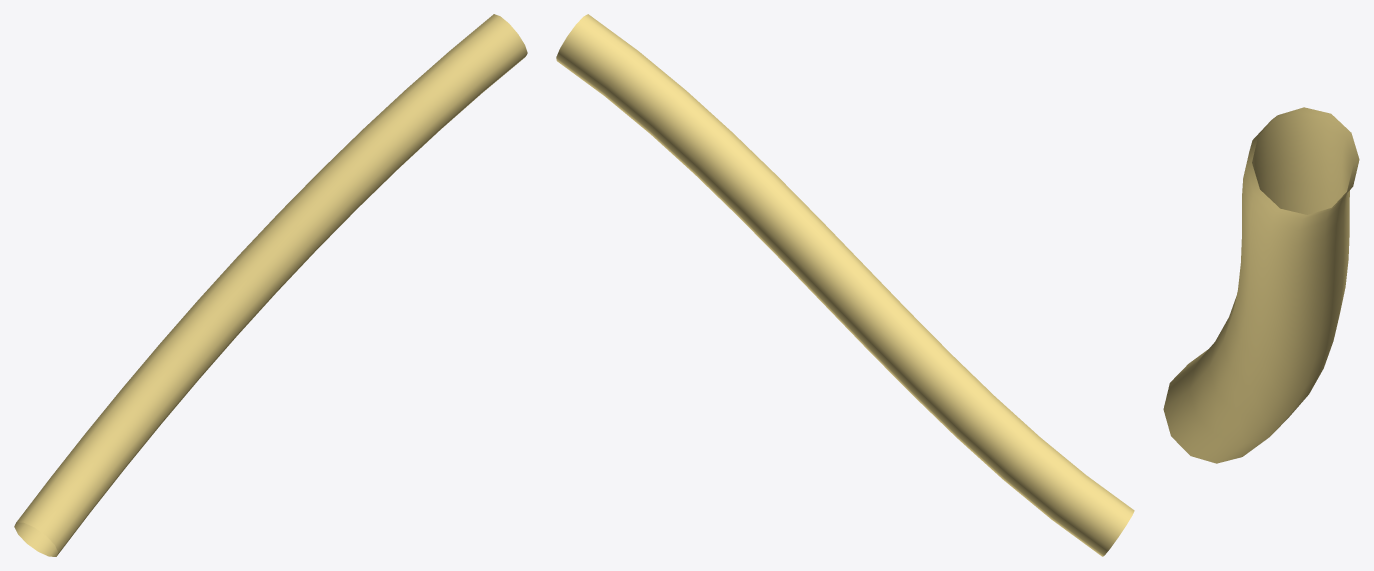
3 views of the same model, side by side, from view 1: azimuth 30°, elevation 25°; view 2: azimuth 150°, elevation 25°; view 3: azimuth 270°, elevation 25° (orthographic). The views are drawn at different scales.
Visible parts, largest first — view 1: ZA_1540dd2ef8c90f4c; view 2: ZA_1540dd2ef8c90f4c; view 3: ZA_1540dd2ef8c90f4c.
Part boxes in pixels (x1,y1,x2,y2): ZA_1540dd2ef8c90f4c: [14, 14, 527, 556]; ZA_1540dd2ef8c90f4c: [556, 14, 1134, 556]; ZA_1540dd2ef8c90f4c: [1163, 107, 1359, 463].
Bounding box in the file's own units: 0.0334 × 0.0251 × 0.00546.
